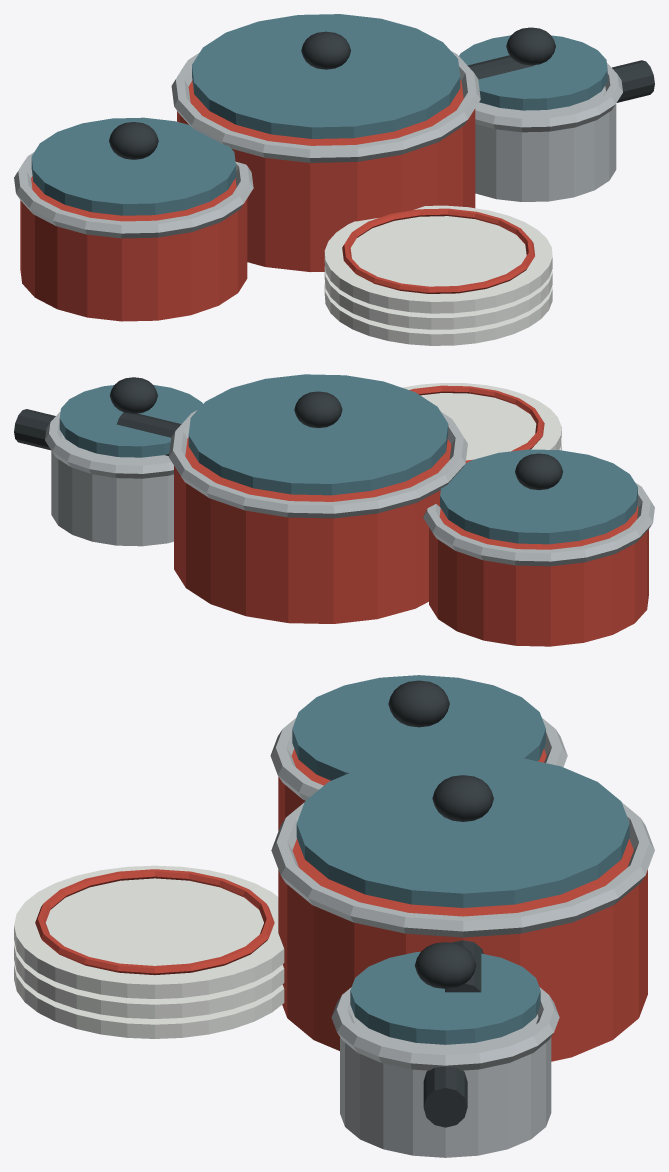
Rendered from pots_and_plates_red.glb.
The picture shows the model from 3 angles, top to bottom: view 1: azimuth 30°, elevation 25°; view 2: azimuth 150°, elevation 25°; view 3: azimuth 270°, elevation 25°; orthographic projection. The views are drawn at different scales.
Parts seen in each view (by area): view 1: tempered lid.001, saucepan.001, saucepan, stacked plate.002, tempered lid, saucepan.002, tempered lid.002, rolled rim.001, rolled rim, stacked plate, stacked plate.001, plate rim.002 (+6 smaller); view 2: saucepan.001, tempered lid.001, saucepan, tempered lid, saucepan.002, rolled rim.001, tempered lid.002, stacked plate.002, rolled rim, rolled rim.002, lid knob, lid knob.001 (+4 smaller); view 3: tempered lid.001, saucepan.001, stacked plate.002, saucepan.002, tempered lid, tempered lid.002, rolled rim.001, rolled rim.002, stacked plate.001, stacked plate, plate rim.002, pan handle.002 (+6 smaller).
Boxes of the visible parts, x1=… form: tempered lid.001: x1=192, y1=14, x2=460, y2=138; saucepan.001: x1=177, y1=80, x2=475, y2=272; saucepan: x1=20, y1=176, x2=247, y2=321; stacked plate.002: x1=324, y1=205, x2=552, y2=313; tempered lid: x1=31, y1=117, x2=235, y2=215; saucepan.002: x1=475, y1=86, x2=616, y2=201; tempered lid.002: x1=459, y1=35, x2=607, y2=110; rolled rim.001: x1=171, y1=51, x2=480, y2=162; rolled rim: x1=14, y1=152, x2=253, y2=238; stacked plate: x1=324, y1=283, x2=552, y2=345; stacked plate.001: x1=324, y1=267, x2=552, y2=329; plate rim.002: x1=342, y1=208, x2=534, y2=293; saucepan.001: x1=174, y1=438, x2=451, y2=623; tempered lid.001: x1=188, y1=374, x2=448, y2=495; saucepan: x1=429, y1=506, x2=648, y2=646; tempered lid: x1=440, y1=449, x2=637, y2=544; saucepan.002: x1=51, y1=433, x2=173, y2=546; rolled rim.001: x1=169, y1=410, x2=467, y2=518; tempered lid.002: x1=59, y1=385, x2=202, y2=457; stacked plate.002: x1=402, y1=383, x2=561, y2=460; rolled rim: x1=423, y1=483, x2=654, y2=566; rolled rim.002: x1=45, y1=411, x2=173, y2=478; lid knob: x1=515, y1=453, x2=562, y2=490; lid knob.001: x1=294, y1=391, x2=342, y2=428; tempered lid.001: x1=296, y1=753, x2=629, y2=907; saucepan.001: x1=278, y1=839, x2=647, y2=1061; stacked plate.002: x1=14, y1=865, x2=284, y2=998; saucepan.002: x1=340, y1=1014, x2=551, y2=1157; tempered lid: x1=292, y1=675, x2=545, y2=780; tempered lid.002: x1=350, y1=951, x2=540, y2=1044; rolled rim.001: x1=271, y1=802, x2=654, y2=937; rolled rim.002: x1=331, y1=987, x2=559, y2=1070; stacked plate.001: x1=14, y1=943, x2=284, y2=1018; stacked plate: x1=14, y1=963, x2=284, y2=1038; plate rim.002: x1=35, y1=869, x2=274, y2=975; pan handle.002: x1=423, y1=1066, x2=467, y2=1127.
Size of the model in its own units: 1.01 by 0.27 by 0.7278.
